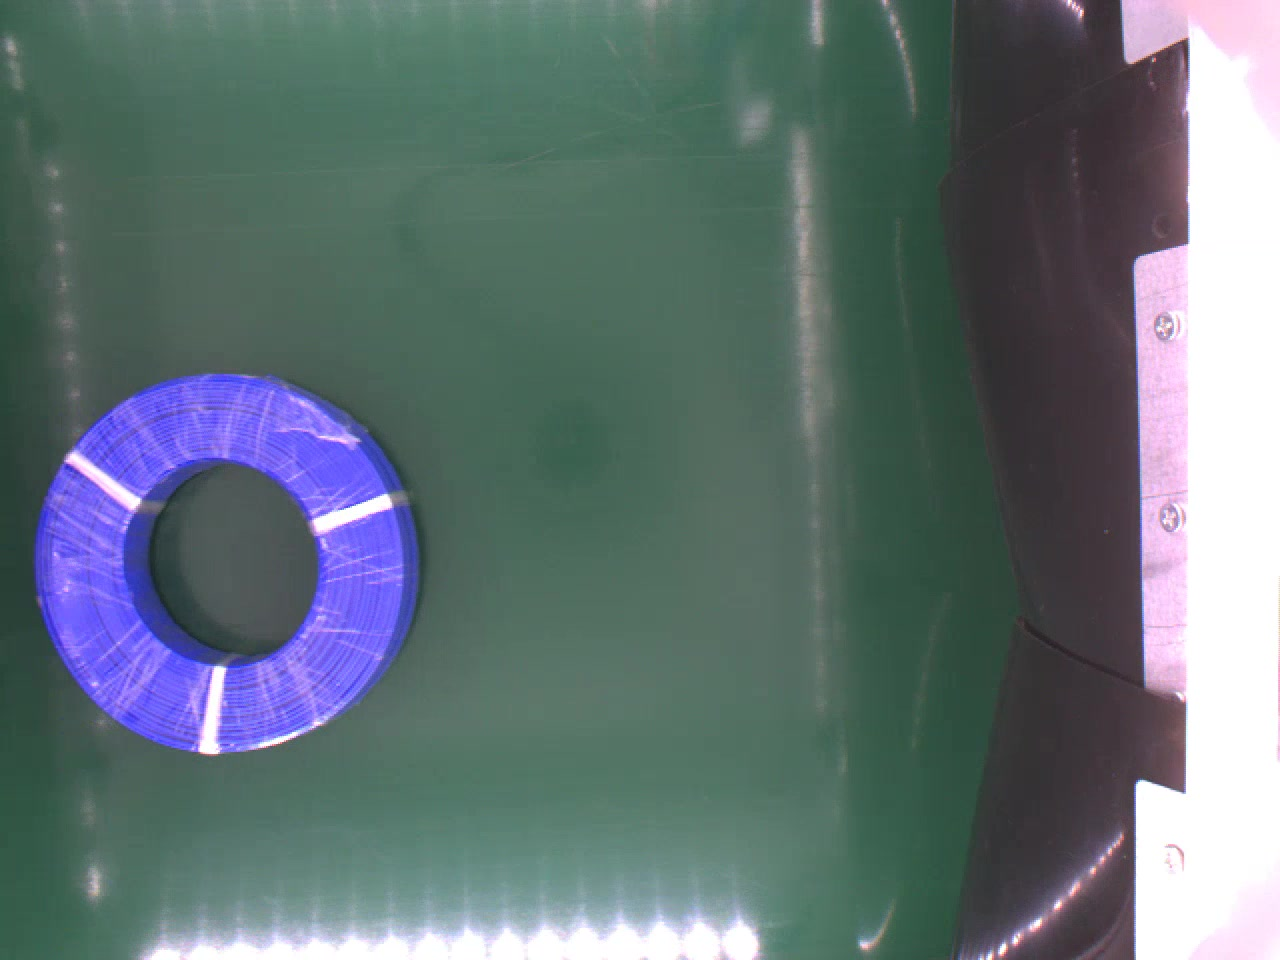blue: (32, 367, 427, 759)
